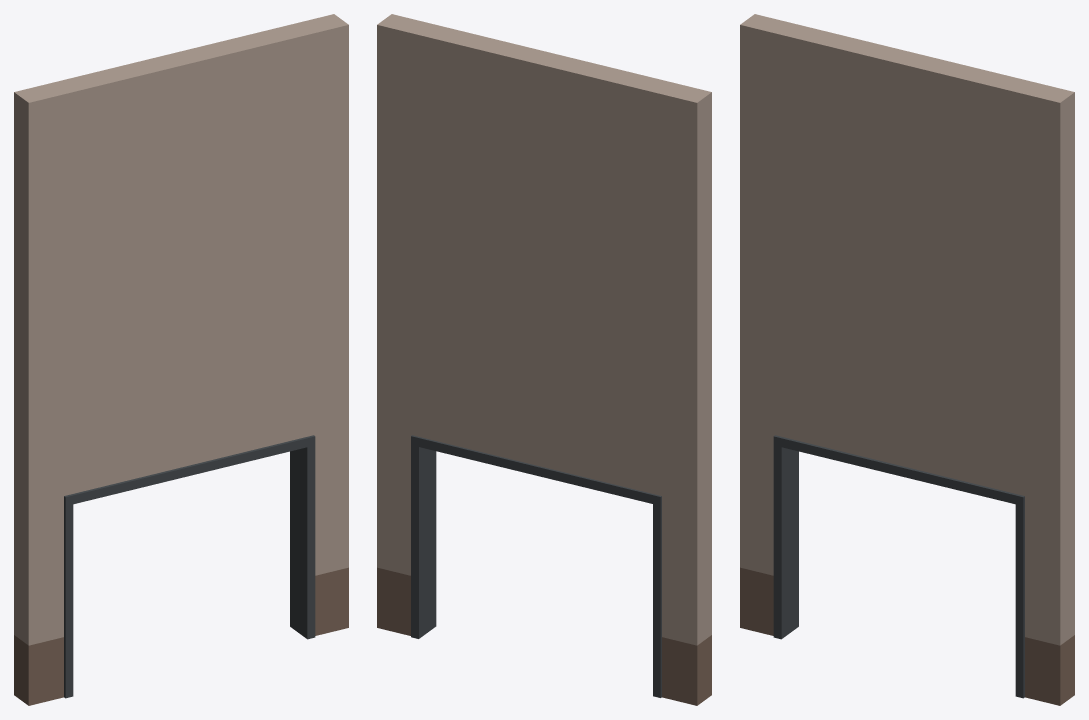
The model's file is Wall2_06.fbx.
3 views of the same model, side by side, from view 1: azimuth 30°, elevation 25°; view 2: azimuth 150°, elevation 25°; view 3: azimuth 330°, elevation 25° (orthographic).
Visible parts, largest first — view 1: Wall2_06; view 2: Wall2_06; view 3: Wall2_06.
Part boxes in pixels (x1,y1,x2,y2): Wall2_06: [14, 14, 348, 705]; Wall2_06: [377, 14, 711, 705]; Wall2_06: [740, 14, 1074, 705].
Bounding box in the file's own units: 500 × 900 × 47.66.
